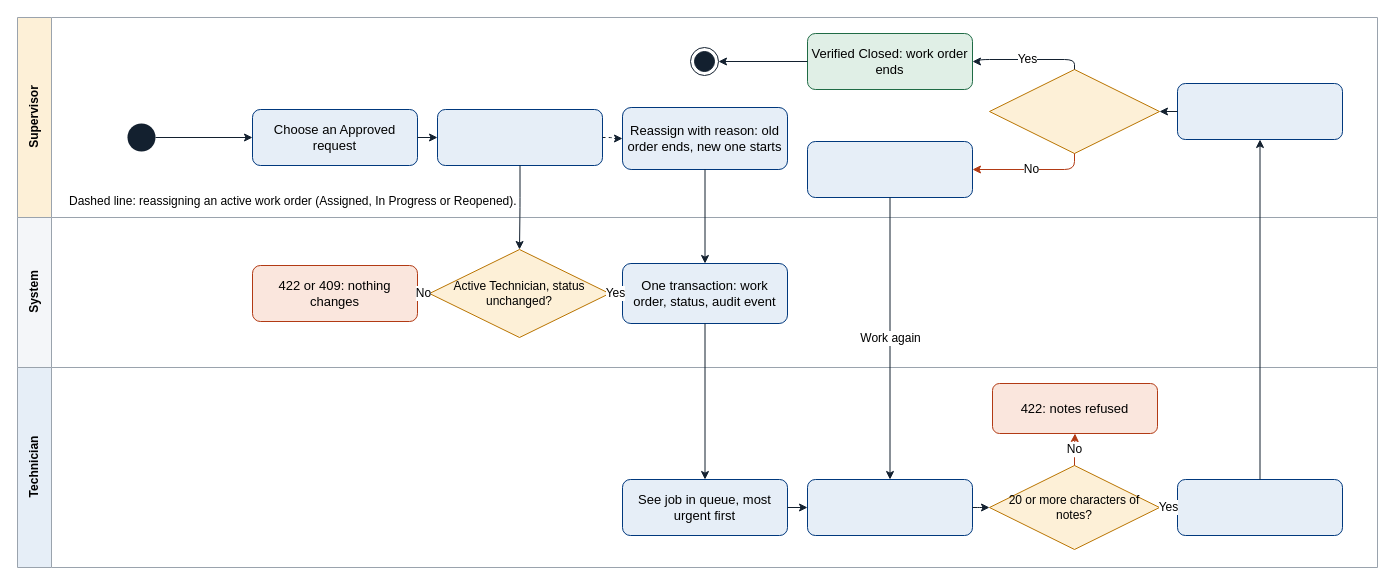
This 1395x585 diagram has some shape labels left out. The centre of each missing label's shape, as x and y in pixels:
Choose Technician, open-work counts shown: pixel 519 137
Reopened, with feedback: pixel 889 169
Repair acceptable?: pixel 1074 111
Review completion notes: pixel 1259 111
Start work: In Progress: pixel 889 507
Work Completed, leaves active queue: pixel 1259 507
